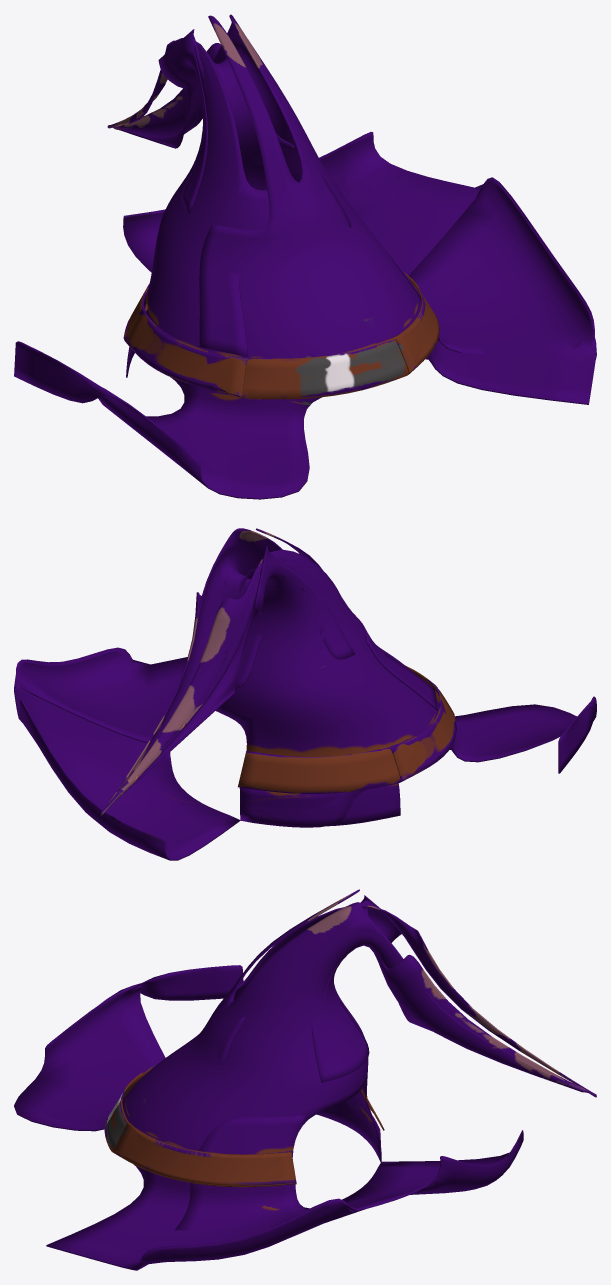
Rendered from Maguso_TornHat_Extremee.fbx.
The picture shows the model from 3 angles, top to bottom: view 1: azimuth 30°, elevation 25°; view 2: azimuth 150°, elevation 25°; view 3: azimuth 270°, elevation 25°; orthographic projection. The views are drawn at different scales.
Parts seen in each view (by area): view 1: Circle; view 2: Circle; view 3: Circle.
Boxes of the visible parts, box(x1,y1,x2,y2) form: Circle: box(14, 14, 596, 499); Circle: box(14, 528, 596, 860); Circle: box(14, 889, 596, 1270).
Size of the model in its own units: 398 by 217 by 424.
